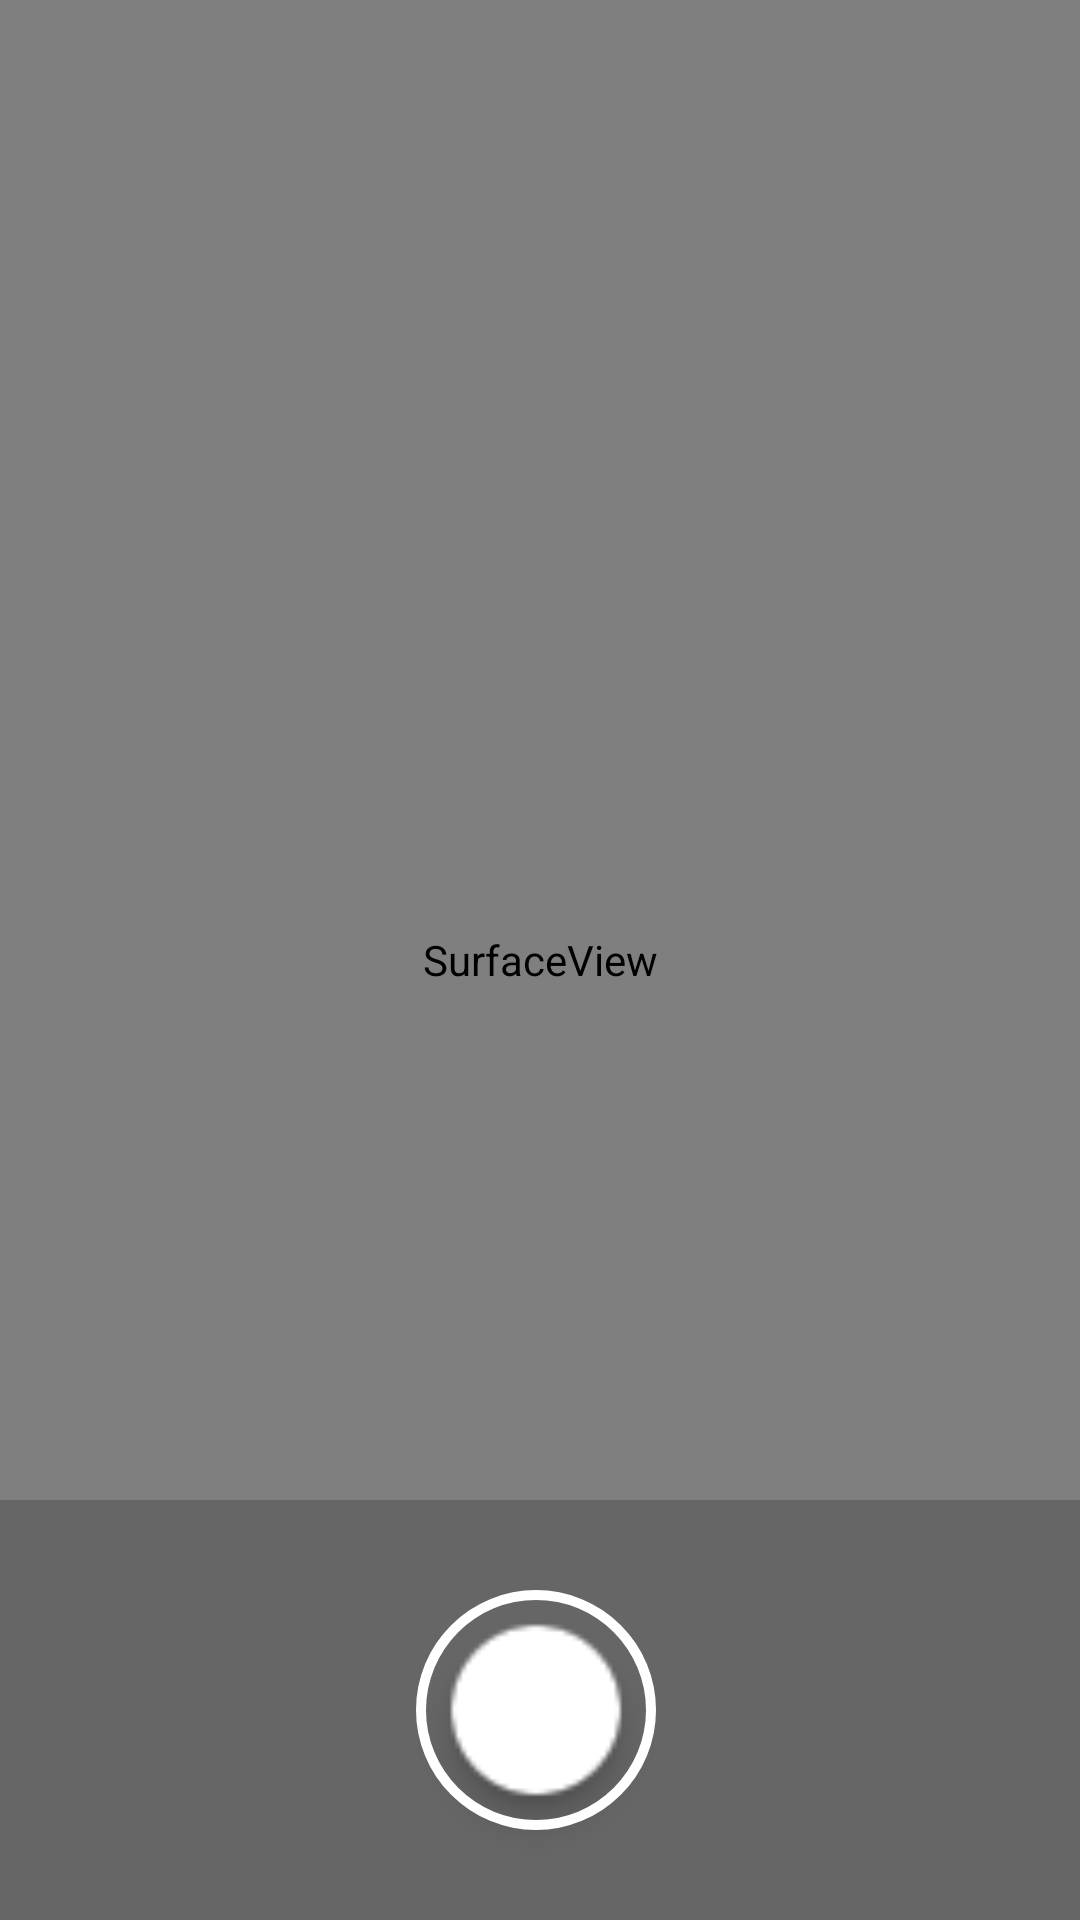

Screen size 1080x1920. Icon name, then its box in pixels as region(x1, y1, x2, y2):
camera ring: region(416, 1590, 656, 1830)
